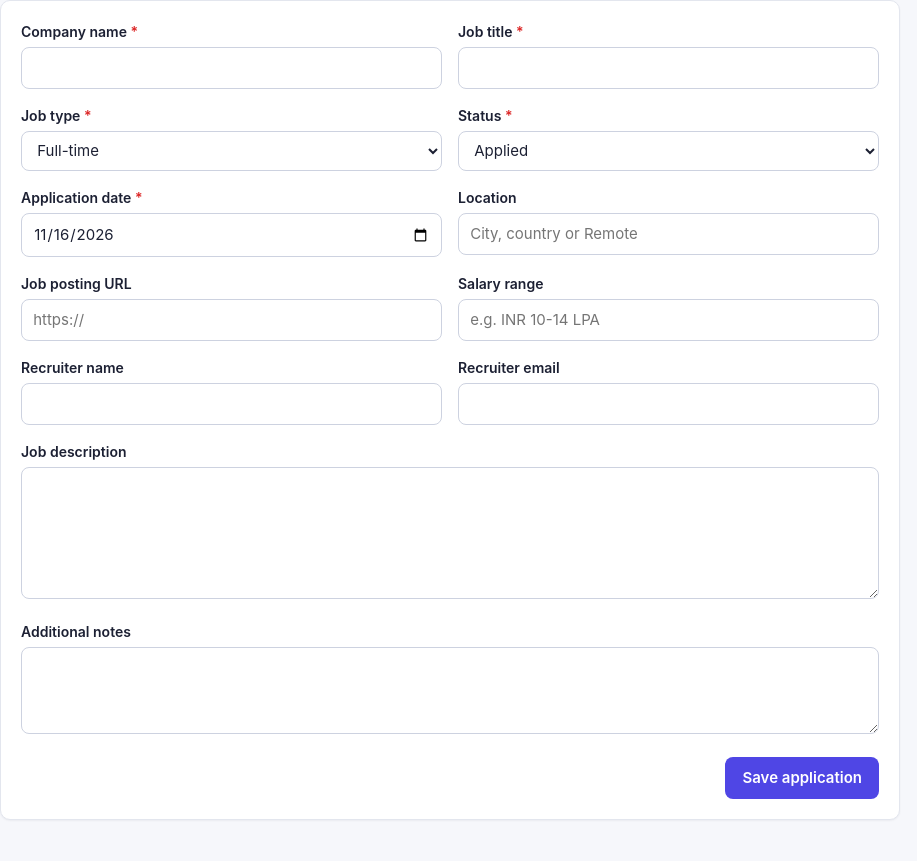
ApplicationForm › requires company name and job title
Click the button "Save application" at (802,778), box [726, 757, 879, 799]
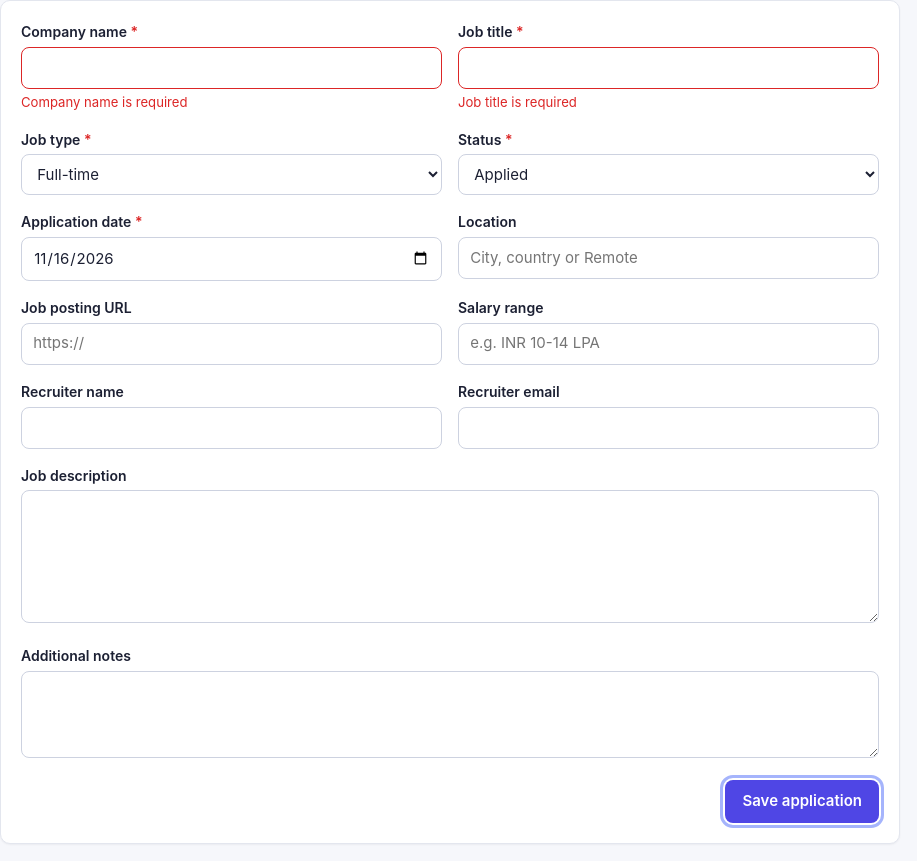
Now the text "Company name is required" is shown, box [21, 94, 188, 110]
Now the text "Job title is required" is shown, box [458, 94, 577, 110]
